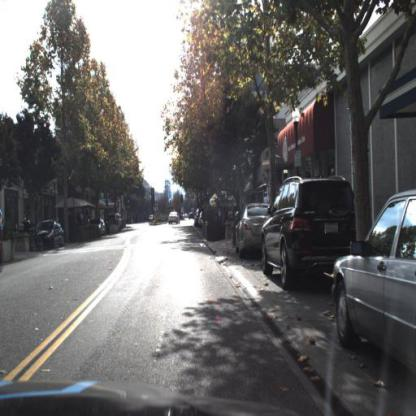car: (332, 189, 415, 379), (260, 176, 354, 290), (235, 201, 270, 259), (34, 216, 68, 250), (166, 208, 180, 226)
trafficLight-Red: (179, 193, 184, 205)
